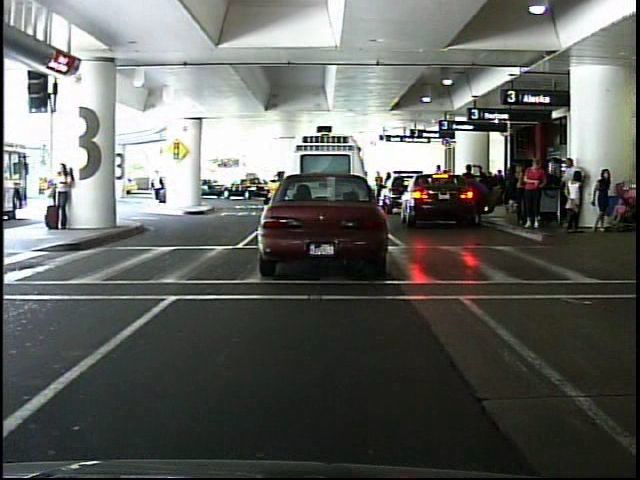person: (524, 154, 549, 232), (54, 160, 79, 232), (144, 163, 171, 206)
